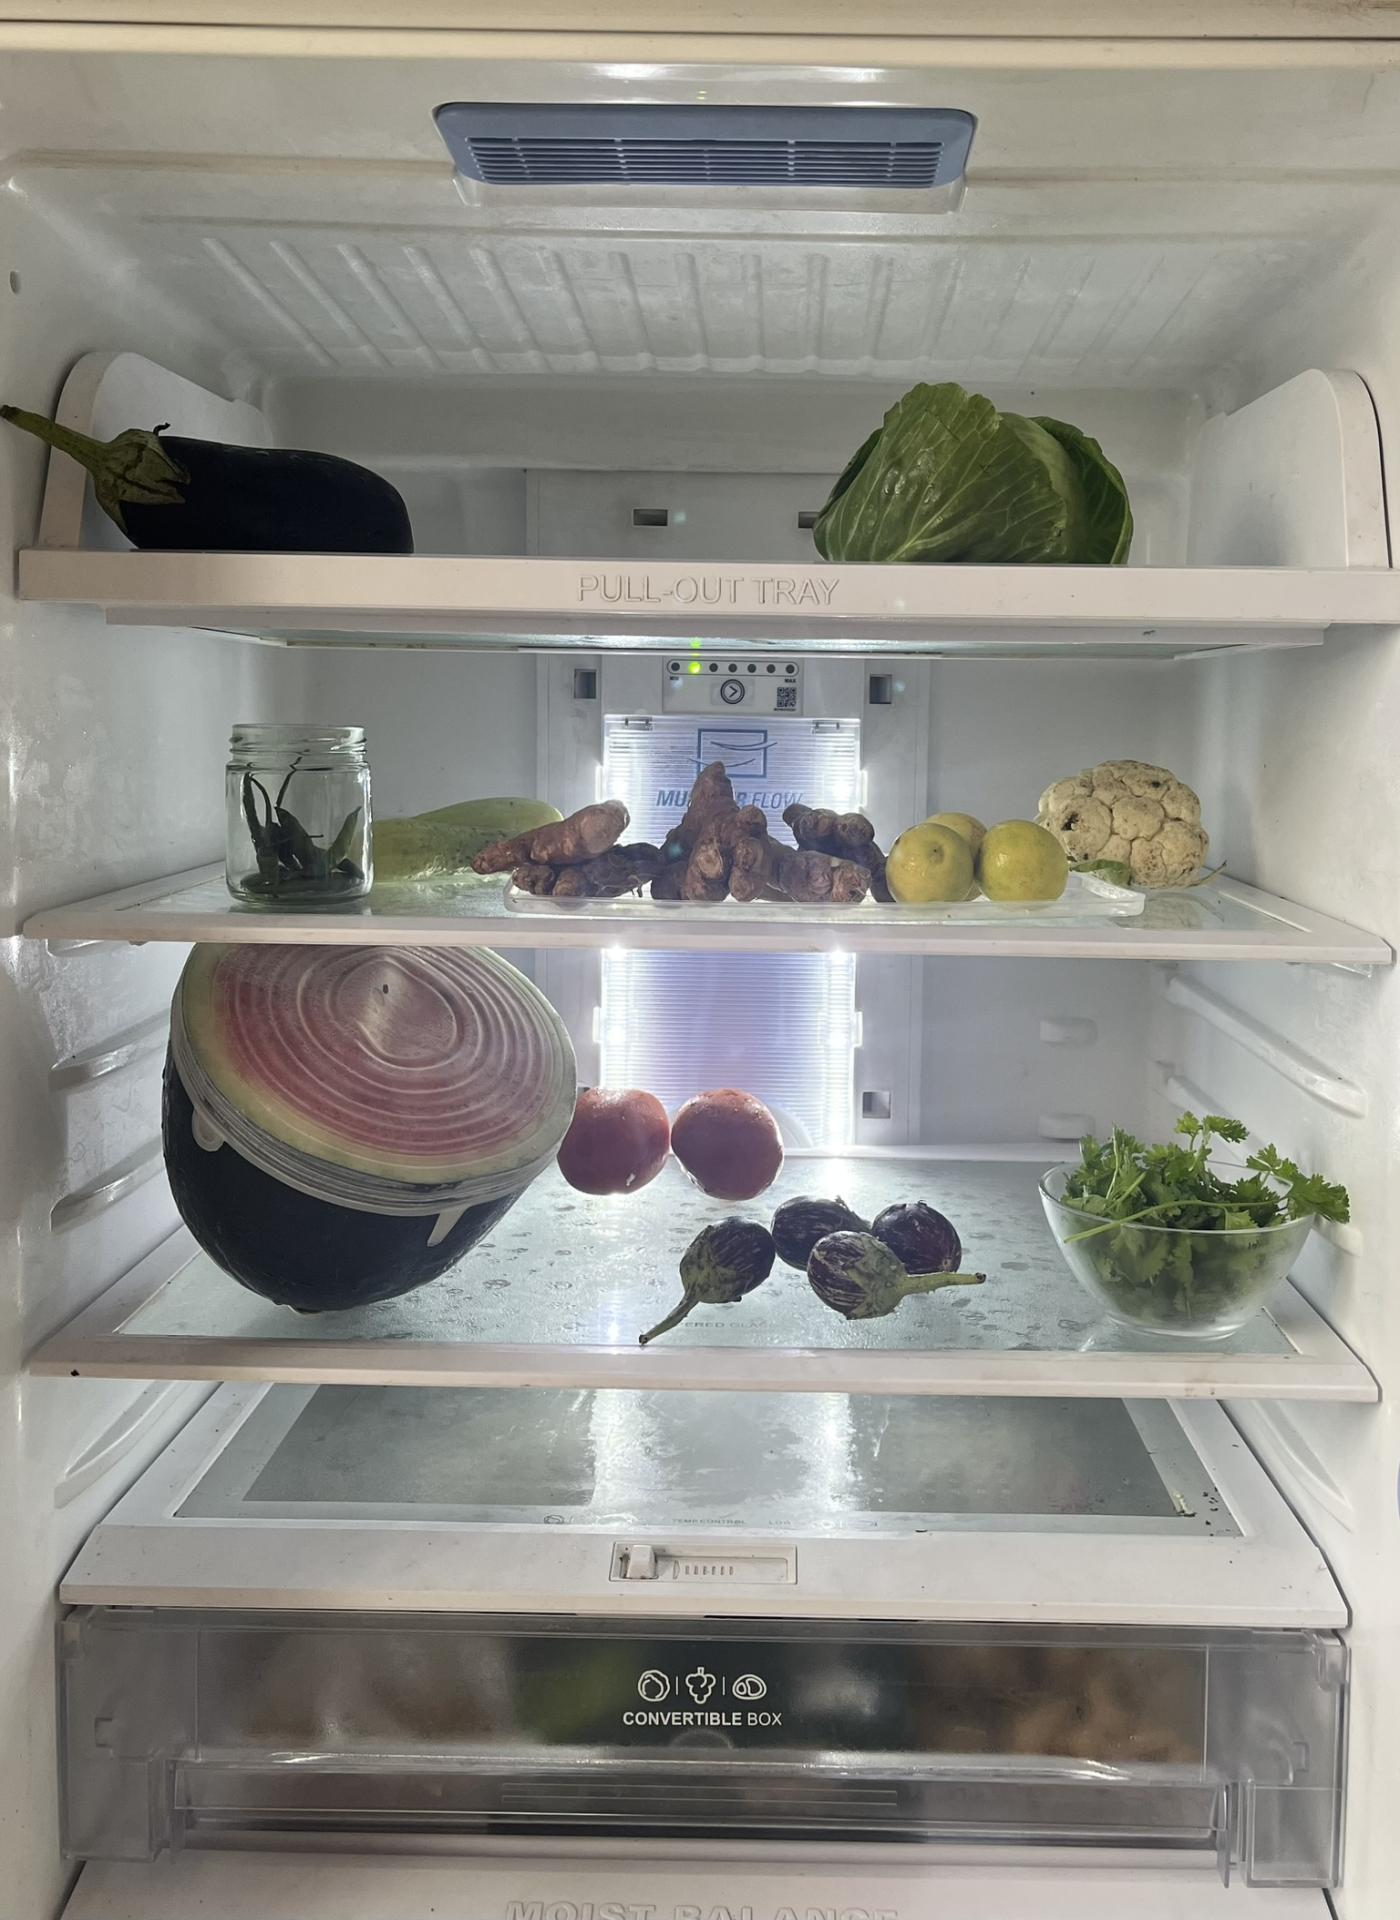cabbage: (796, 376, 1136, 569)
cauliflower: (1036, 756, 1221, 887)
chillies: (225, 747, 374, 897)
coriander: (1054, 1118, 1352, 1334)
cucumber: (371, 784, 562, 887)
ginger: (480, 775, 896, 900)
lemon: (872, 806, 1097, 897)
tomato: (674, 1075, 796, 1206), (559, 1078, 678, 1197)
watermelon: (146, 947, 583, 1306)
